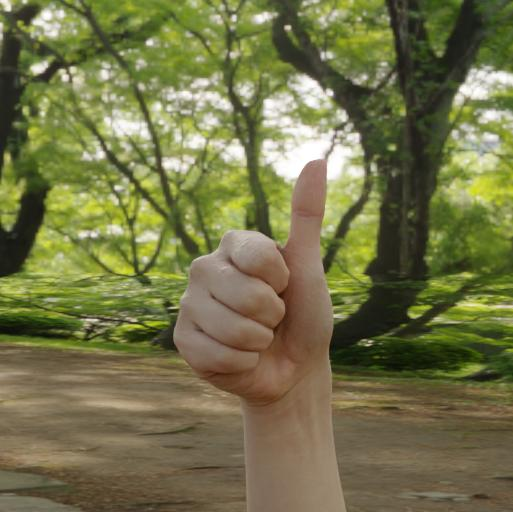thumbs-up: (184, 132, 342, 404)
